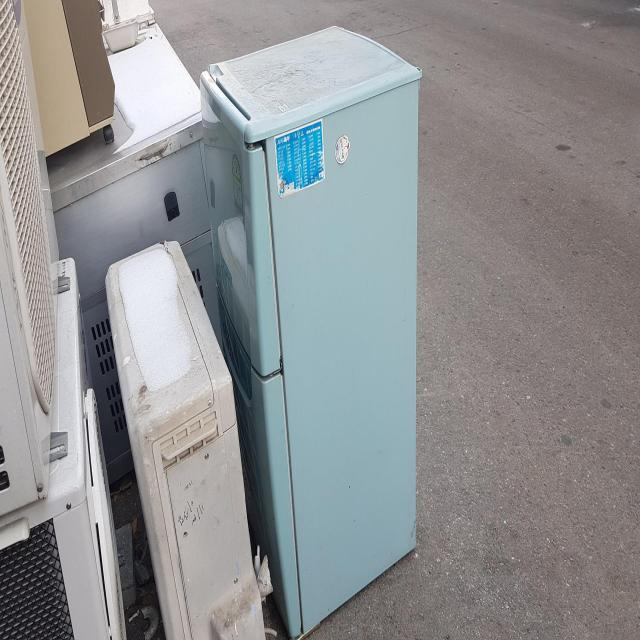refrigerator: (199, 24, 423, 640)
